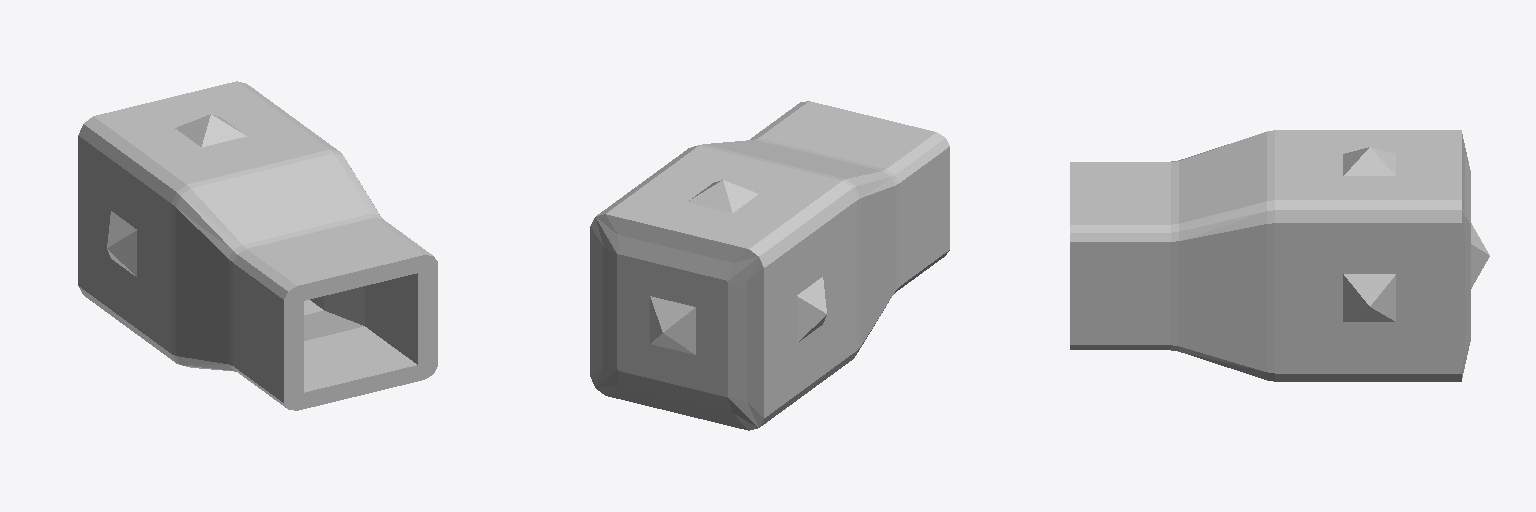
The model's file is Hawkeye_Intake.obj.
The picture shows the model from 3 angles: view 1: azimuth 30°, elevation 25°; view 2: azimuth 150°, elevation 25°; view 3: azimuth 270°, elevation 25°; orthographic projection.
Parts seen in each view (by area): view 1: m_HE_Block_111; view 2: m_HE_Block_111; view 3: m_HE_Block_111.
Part boxes in pixels (x1,y1,x2,y2): m_HE_Block_111: (78,81,437,410); m_HE_Block_111: (590,101,949,430); m_HE_Block_111: (1070,130,1489,381).
Bounding box in the file's own units: 1.2 × 1.2 × 2.1.